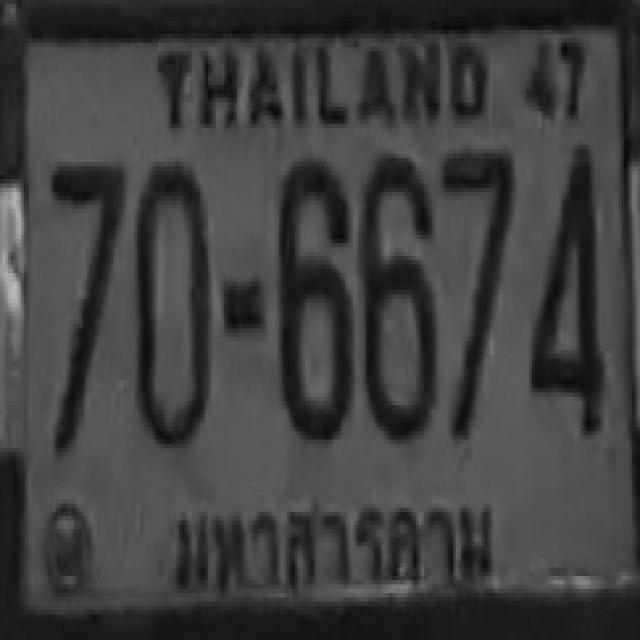0: (133, 158, 207, 444)
4: (527, 141, 598, 431)
6: (358, 152, 435, 438), (277, 156, 350, 437)
7: (49, 158, 122, 448), (439, 147, 512, 433), (440, 147, 511, 395)
MahaSarakham: (158, 475, 506, 608)
